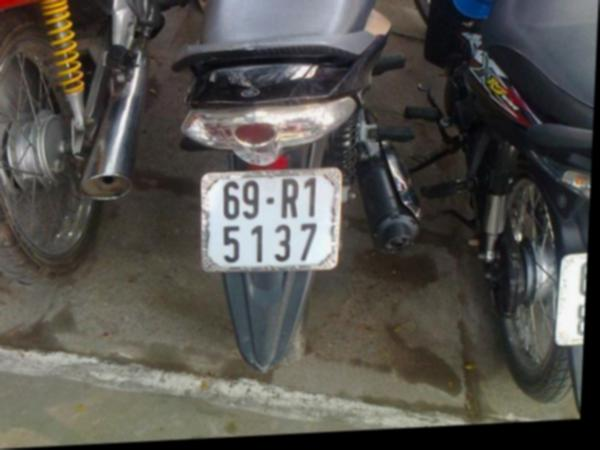License_Plate: (205, 170, 338, 271)
